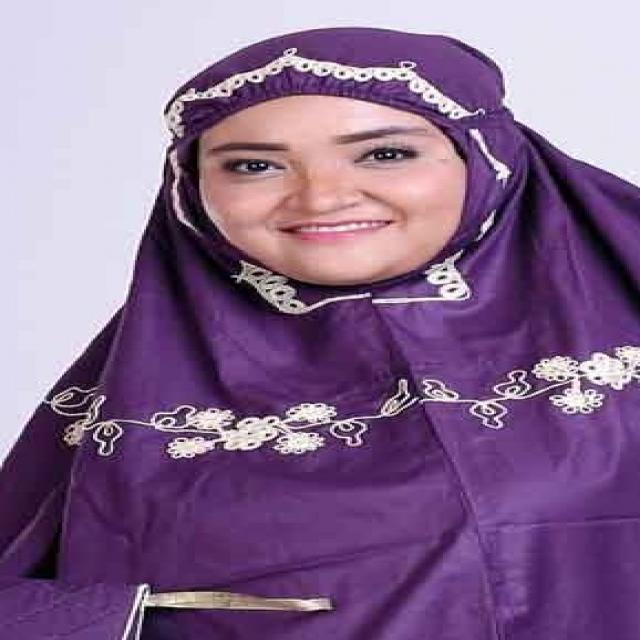head: (157, 17, 512, 298)
